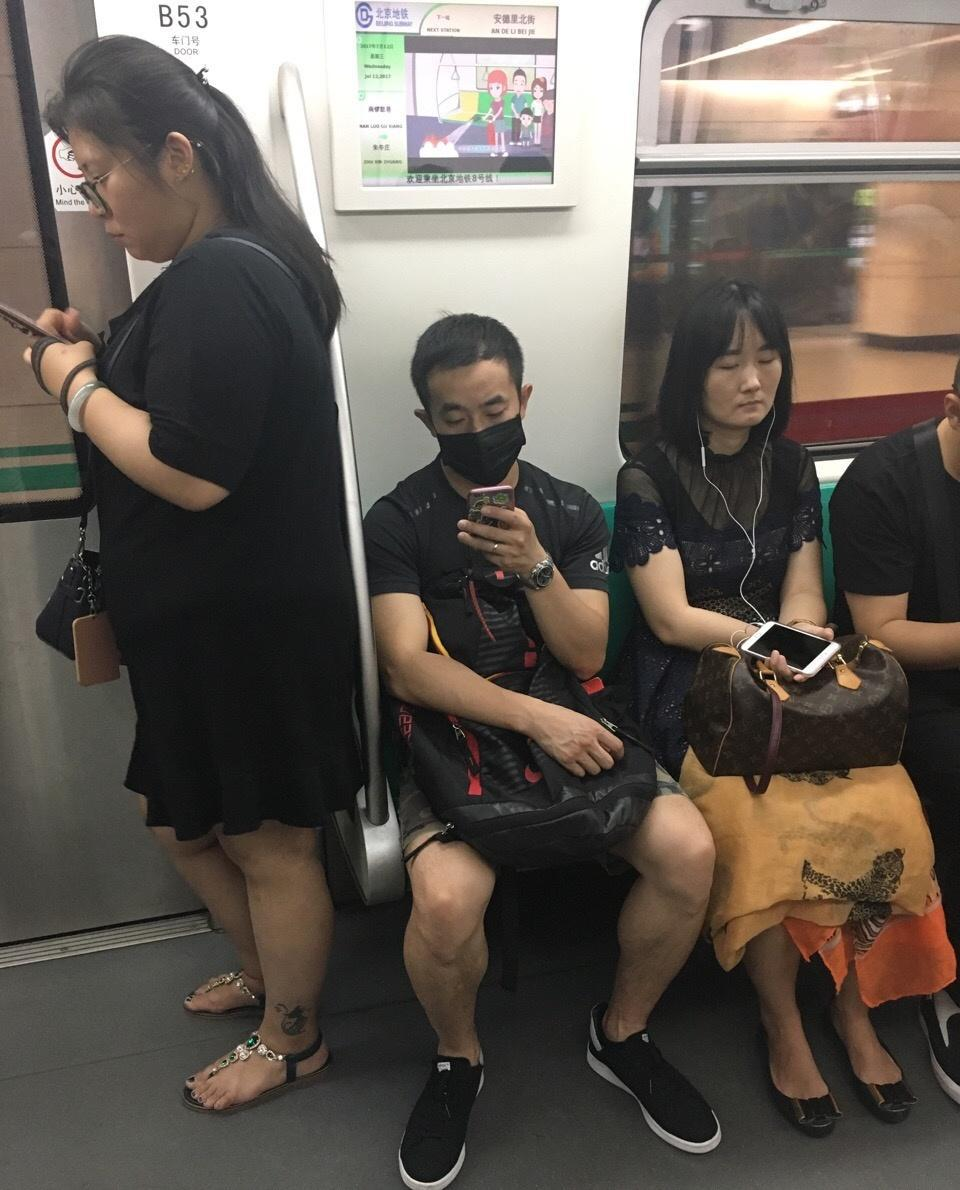NONE: (69, 144, 179, 256), (709, 341, 789, 426)
OK: (425, 381, 528, 484)
